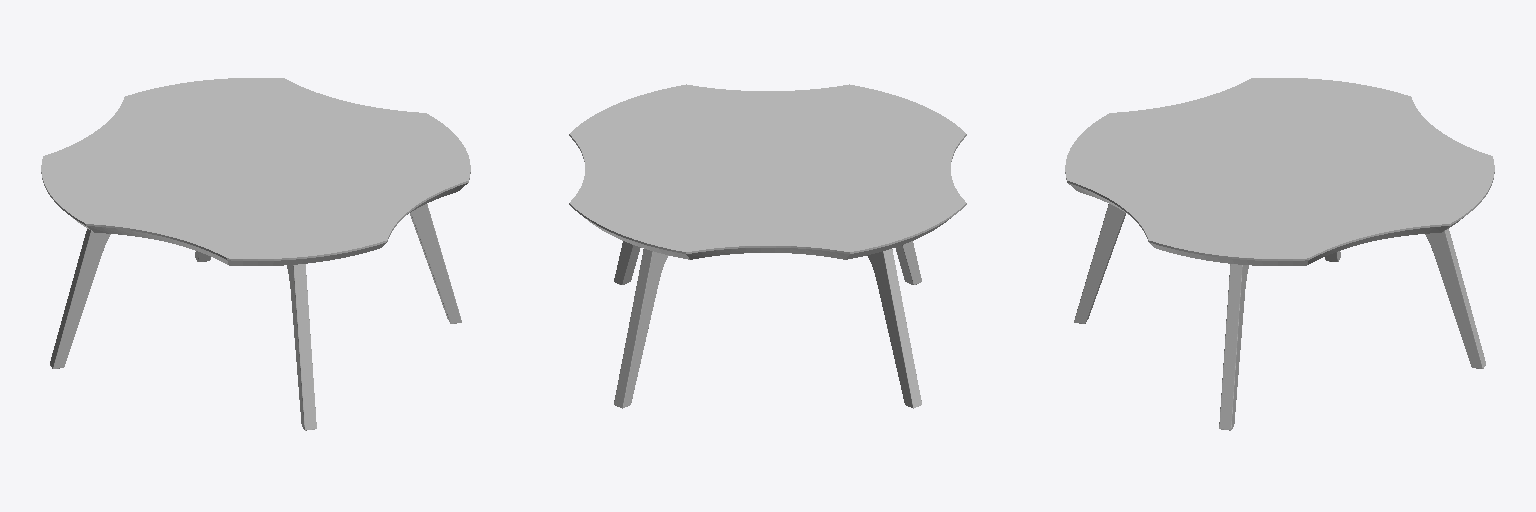
The model's file is coffe table.obj.
The picture shows the model from 3 angles: view 1: azimuth 30°, elevation 25°; view 2: azimuth 150°, elevation 25°; view 3: azimuth 270°, elevation 25°; orthographic projection.
Visible parts, largest first — view 1: balt, picior, picior2; view 2: balt, picior, picior2; view 3: balt, picior2, picior.
Boxes of the visible parts, box(x1,y1,x2,y2) form: balt: box(41, 78, 470, 265); picior: box(50, 204, 461, 368); picior2: box(195, 251, 316, 430); balt: box(569, 84, 966, 259); picior: box(614, 241, 921, 408); picior2: box(614, 241, 921, 408); balt: box(1065, 78, 1494, 265); picior2: box(1074, 204, 1485, 368); picior: box(1219, 251, 1340, 430).
Size of the model in its own units: 39.37 by 17.71 by 39.37.